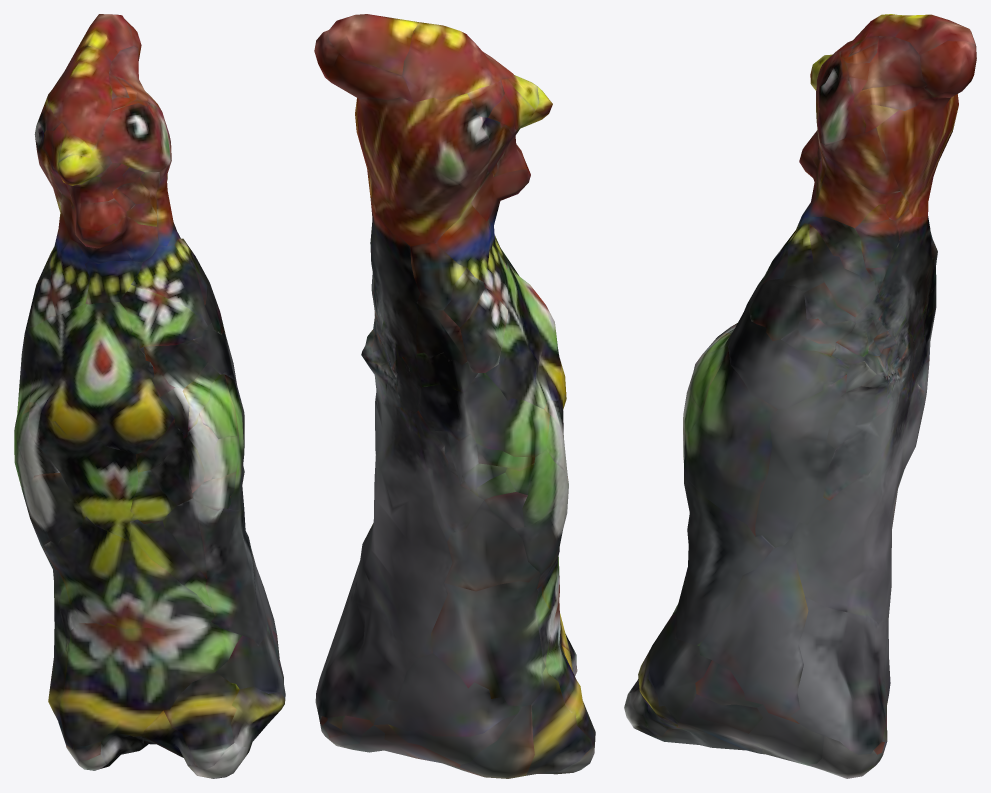
Rendered from hall.glb.
3 views of the same model, side by side, from view 1: azimuth 30°, elevation 25°; view 2: azimuth 150°, elevation 25°; view 3: azimuth 270°, elevation 25° (orthographic). The views are drawn at different scales.
Bounding box in the file's own units: 0.3257 × 0.9791 × 0.424.
Materials: 1 (1 with a texture image).
